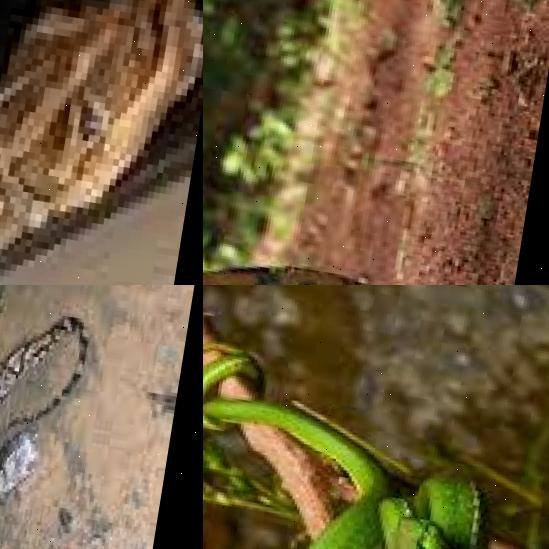snake: (203, 321, 530, 549), (0, 0, 203, 285), (0, 285, 114, 549), (203, 208, 464, 285)
